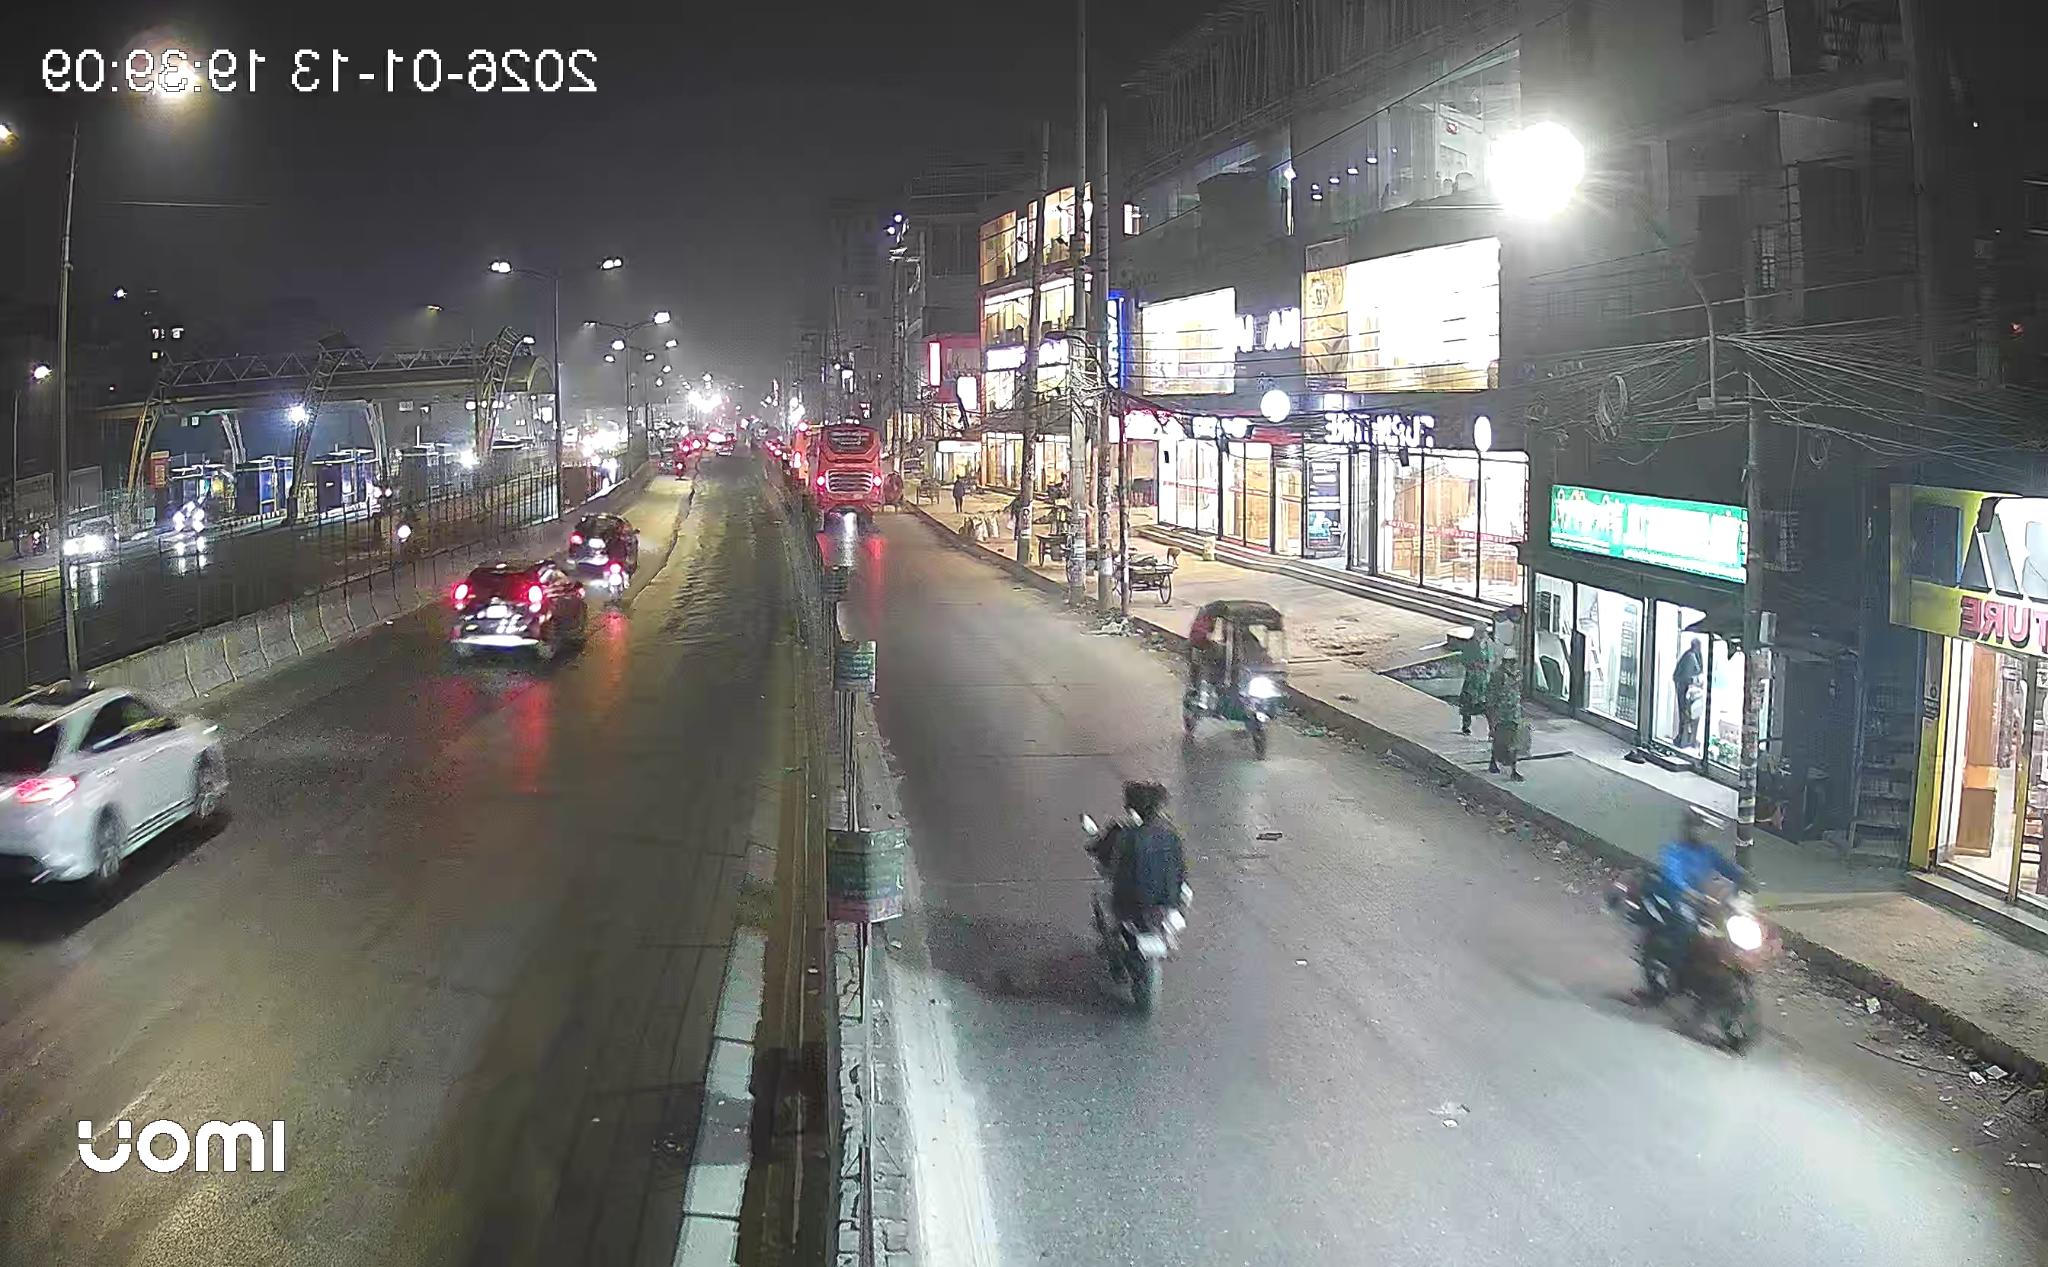Auto Rickshaw: (1182, 600, 1286, 758)
Bus: (806, 421, 886, 525)
Motorcycle: (1608, 815, 1764, 1050), (1081, 783, 1192, 1007)
Private-Sedan Car: (1, 682, 228, 884), (451, 515, 636, 661)
